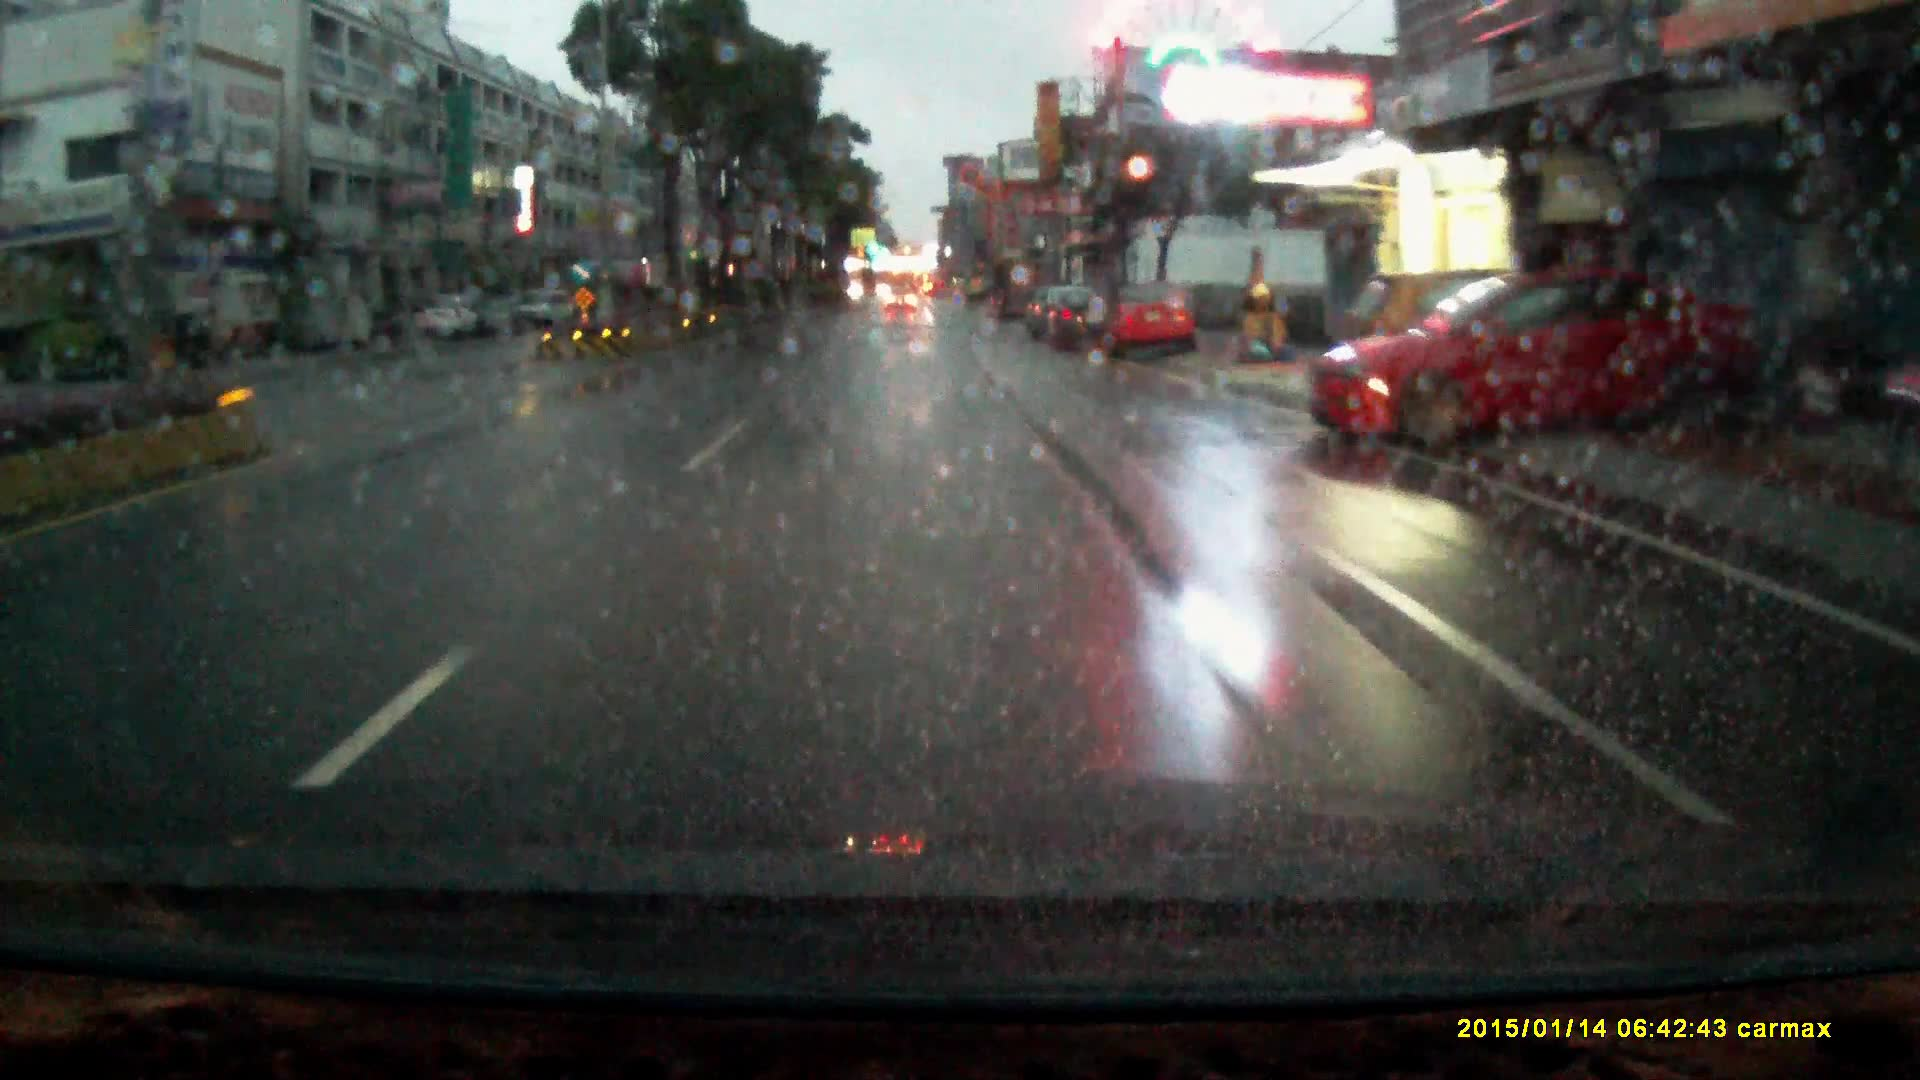vehicle: (1308, 272, 1763, 458), (1098, 286, 1203, 367), (1044, 287, 1116, 359), (419, 295, 483, 347), (518, 295, 579, 338), (886, 294, 918, 322)
